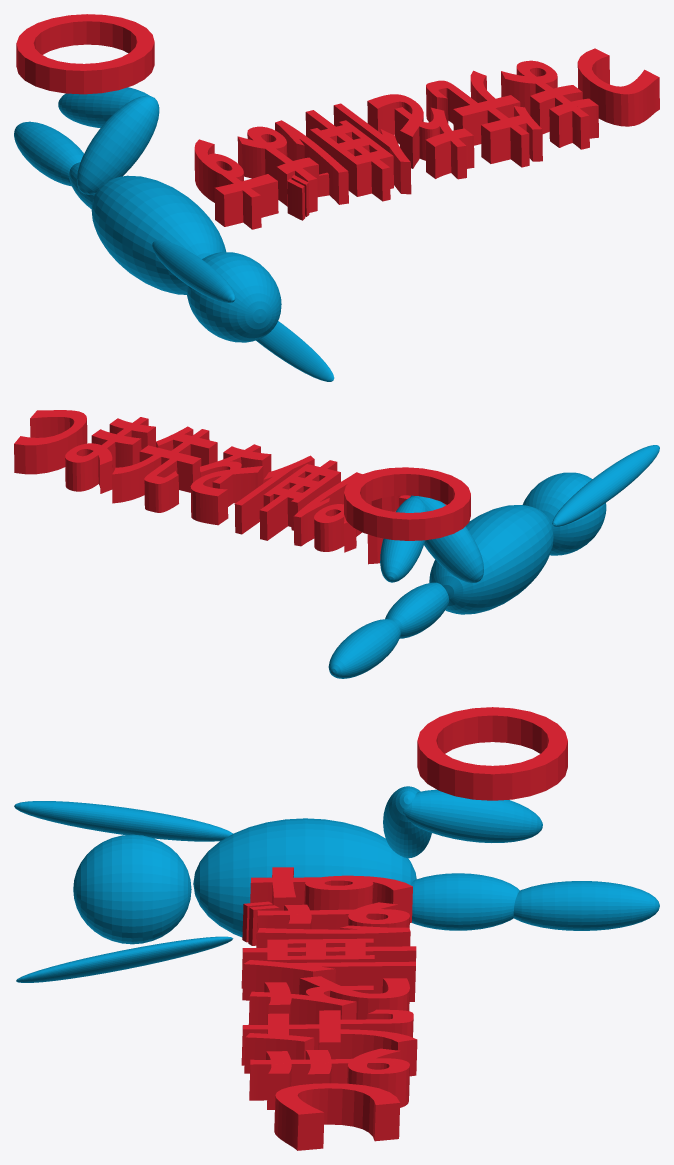
Rendered from tinker.obj.
3 views of the same model, one above another, from view 1: azimuth 30°, elevation 25°; view 2: azimuth 150°, elevation 25°; view 3: azimuth 270°, elevation 25° (orthographic). The views are drawn at different scales.
Parts seen in each view (by area): view 1: group_0_15277357, group_0_40919; view 2: group_0_15277357, group_0_40919; view 3: group_0_15277357, group_0_40919.
Part boxes in pixels (x1,y1,x2,y2): group_0_15277357: (16,14,659,229); group_0_40919: (14,87,334,381); group_0_15277357: (14,410,470,564); group_0_40919: (328,445,659,678); group_0_15277357: (241,707,567,1150); group_0_40919: (14,786,659,982).
Size of the model in its own units: 87.2 by 29.5 by 77.22.
